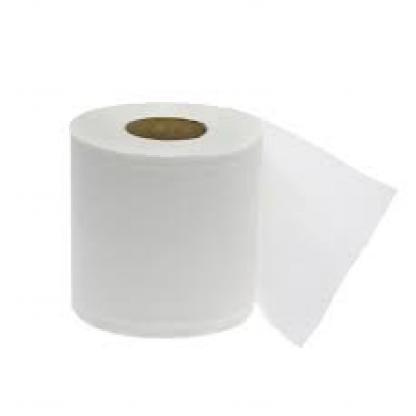tissue: (61, 86, 400, 375)
